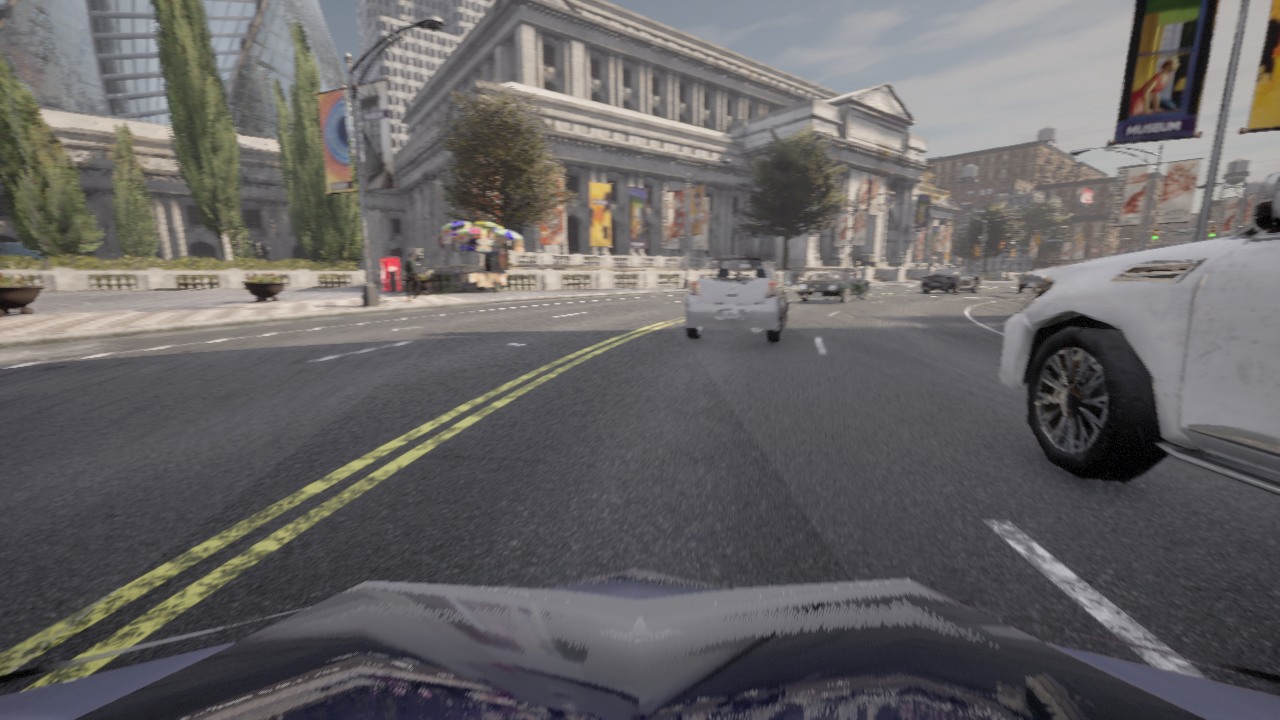cyclist: (0, 569, 1279, 719), (999, 172, 1279, 496), (685, 257, 791, 342), (794, 272, 869, 303), (921, 267, 979, 293), (1016, 269, 1045, 292)
pedestrian: (404, 252, 419, 301)
